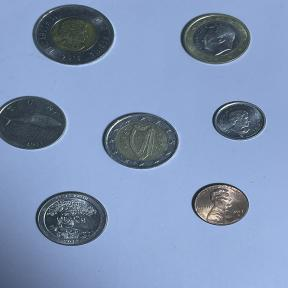coin: (25, 1, 120, 69), (98, 108, 184, 172), (32, 190, 112, 250), (176, 11, 253, 69), (0, 93, 72, 155), (190, 180, 253, 228), (210, 97, 269, 144)
